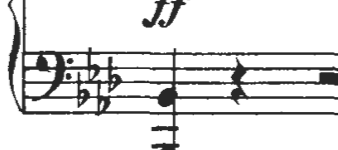bass_clef: (31, 44, 76, 103)
flat: (91, 78, 114, 120), (105, 52, 127, 95), (73, 69, 93, 113), (83, 45, 102, 87)
